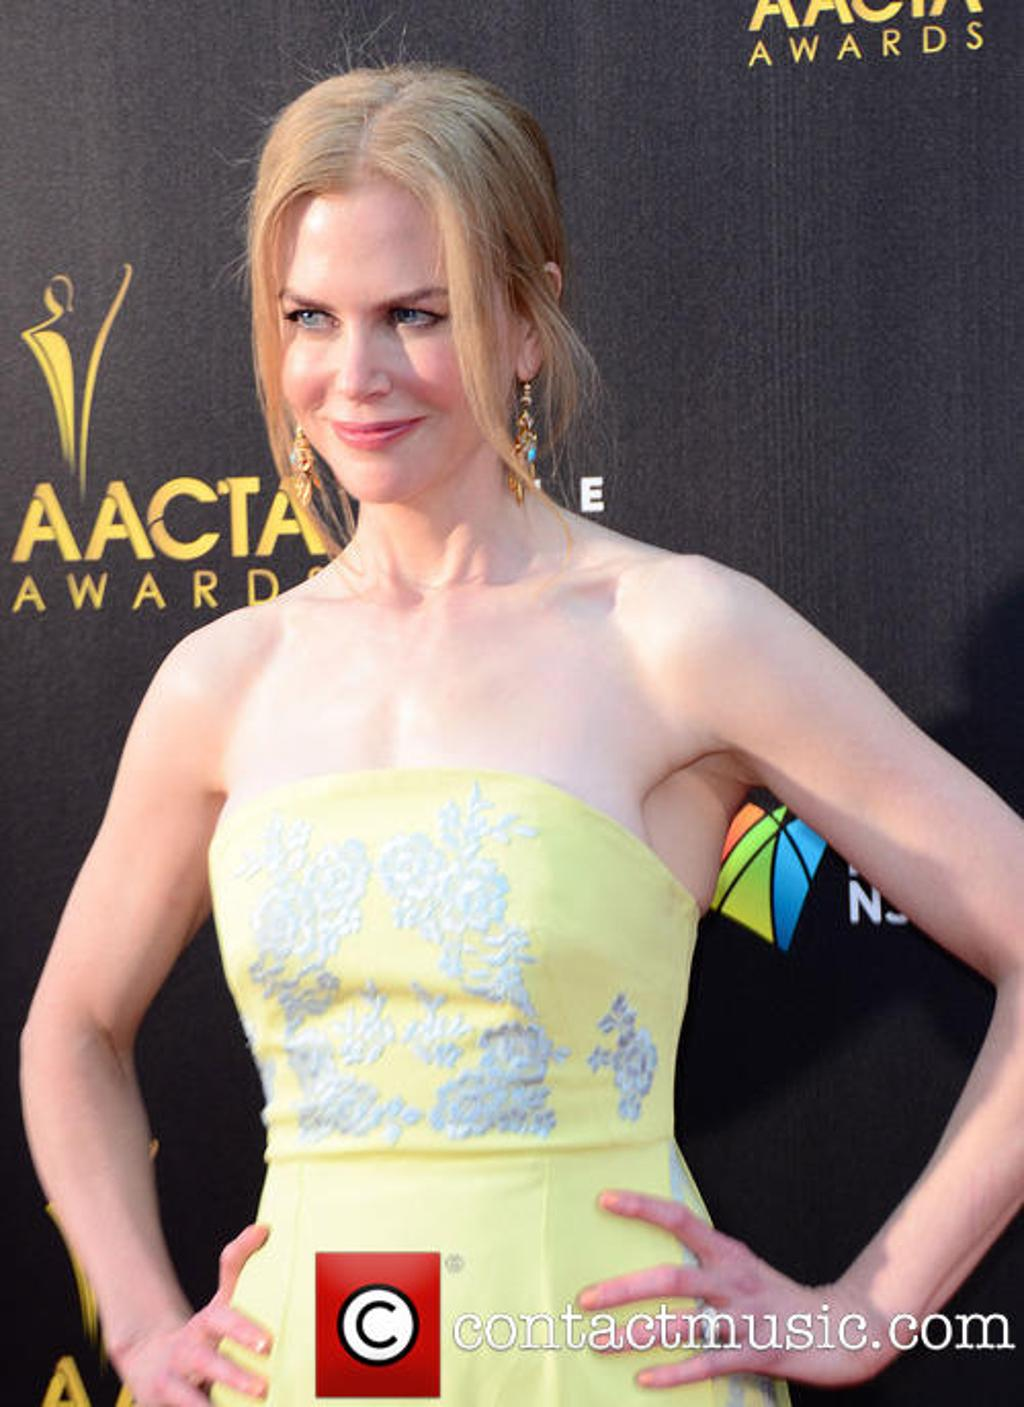face: (277, 173, 510, 491)
